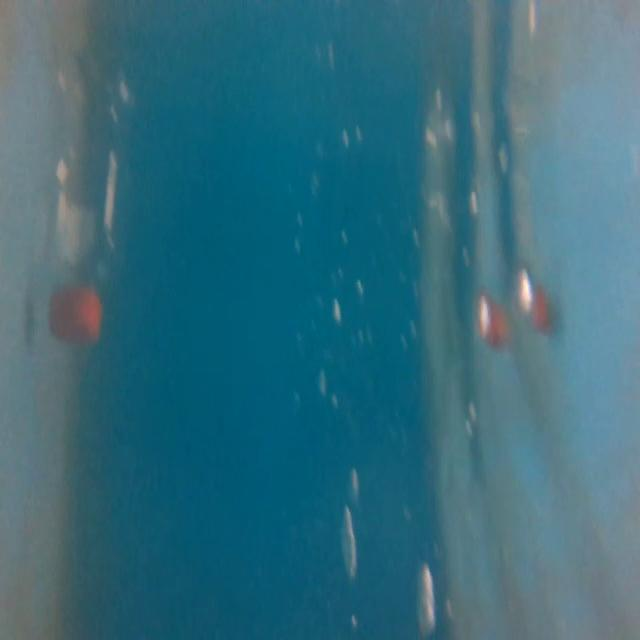plastic bottle: (38, 56, 139, 353)
